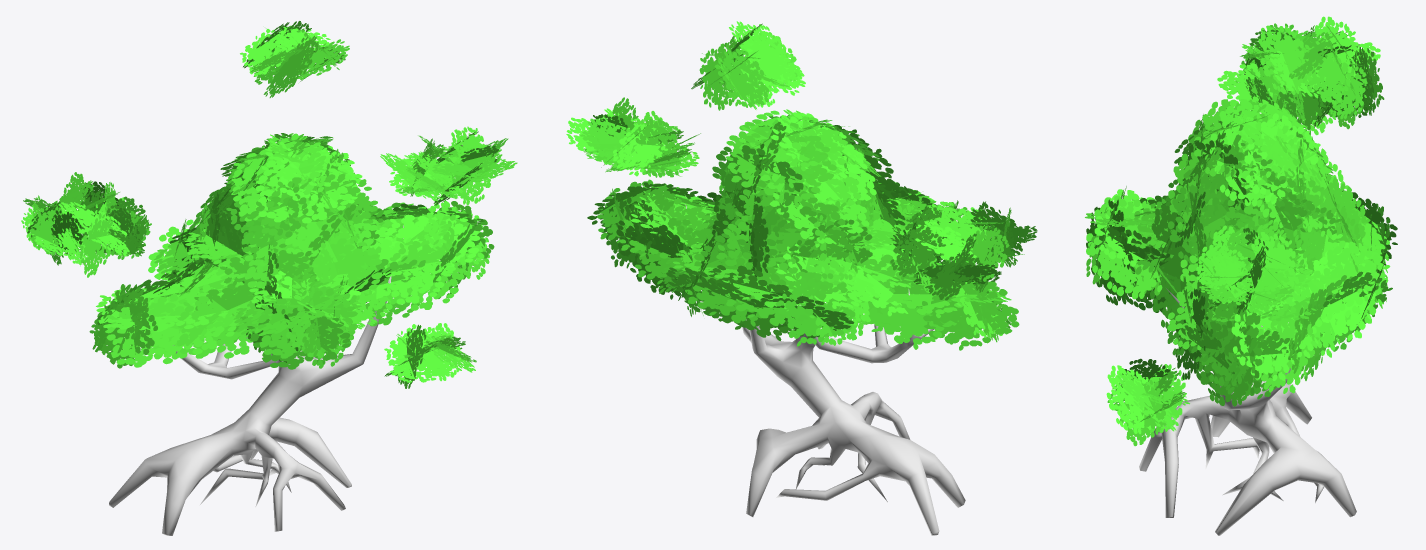
The model's file is TreeA 1 LOD0.fbx.
The picture shows the model from 3 angles, left to right: view 1: azimuth 30°, elevation 25°; view 2: azimuth 150°, elevation 25°; view 3: azimuth 270°, elevation 25°; orthographic projection. The views are drawn at different scales.
Parts seen in each view (by area): view 1: TreeA 1 LOD 0; view 2: TreeA 1 LOD 0; view 3: TreeA 1 LOD 0.
Part boxes in pixels (x1,y1,x2,y2): TreeA 1 LOD 0: (21, 21, 517, 535); TreeA 1 LOD 0: (566, 21, 1037, 535); TreeA 1 LOD 0: (1085, 16, 1397, 535).
Bounding box in the file's own units: 5.04 × 8.51 × 9.17.
